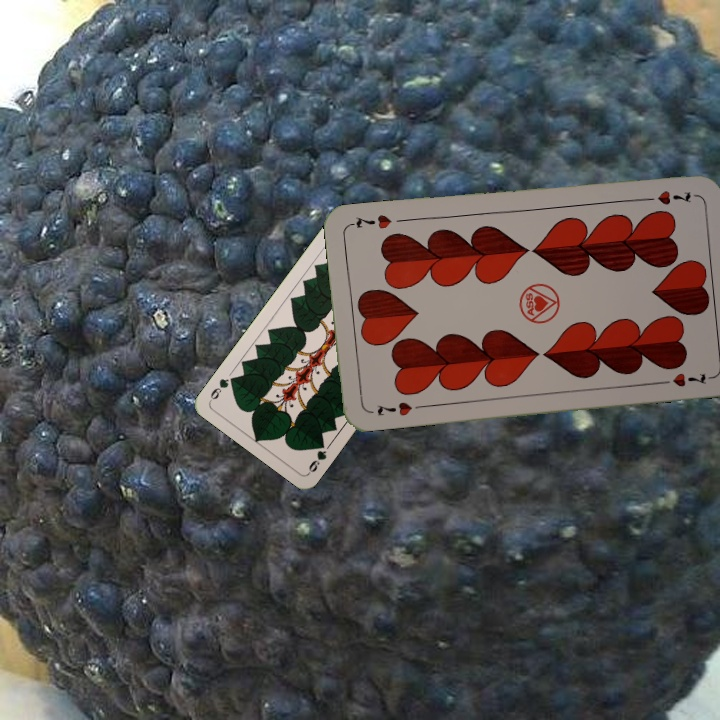G9: (304, 437, 329, 476)
H7: (637, 186, 694, 207), (373, 397, 415, 419)
